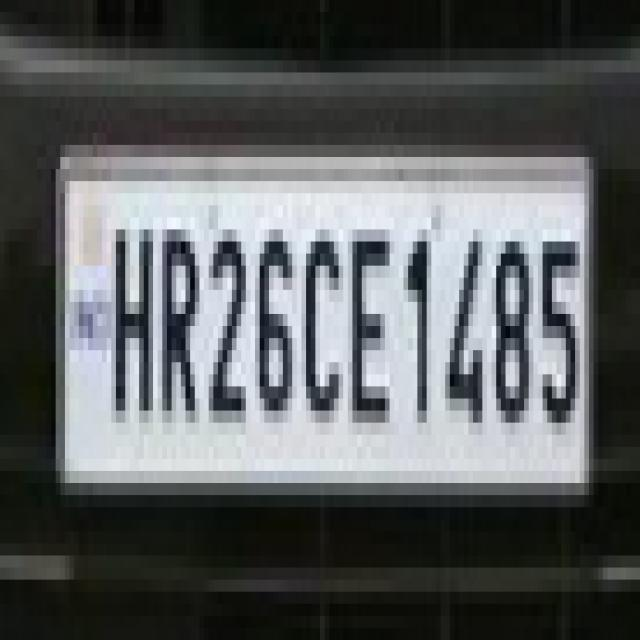1: (398, 214, 432, 460)
4: (440, 201, 488, 454)
5: (536, 214, 584, 442)
6: (252, 207, 302, 443)
8: (491, 207, 534, 447)
C: (302, 222, 344, 431)
E: (345, 210, 394, 452)
H: (110, 199, 156, 444)
R: (155, 212, 201, 446)
